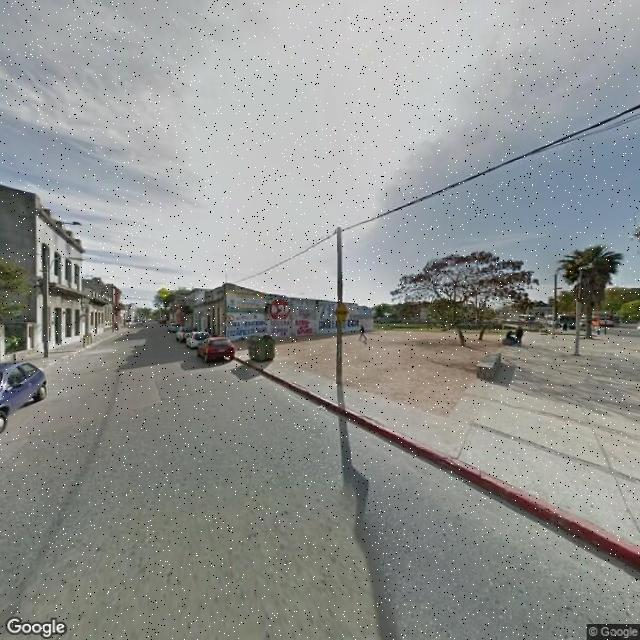garbage container: (242, 333, 283, 375)
